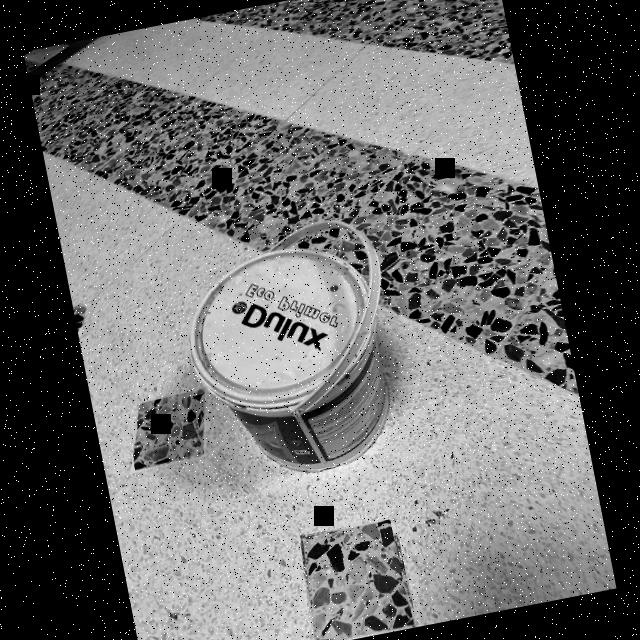paint_bucket: (166, 199, 443, 504)
